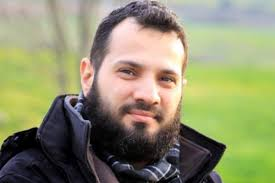middle_eastern_male: (94, 18, 185, 144)
